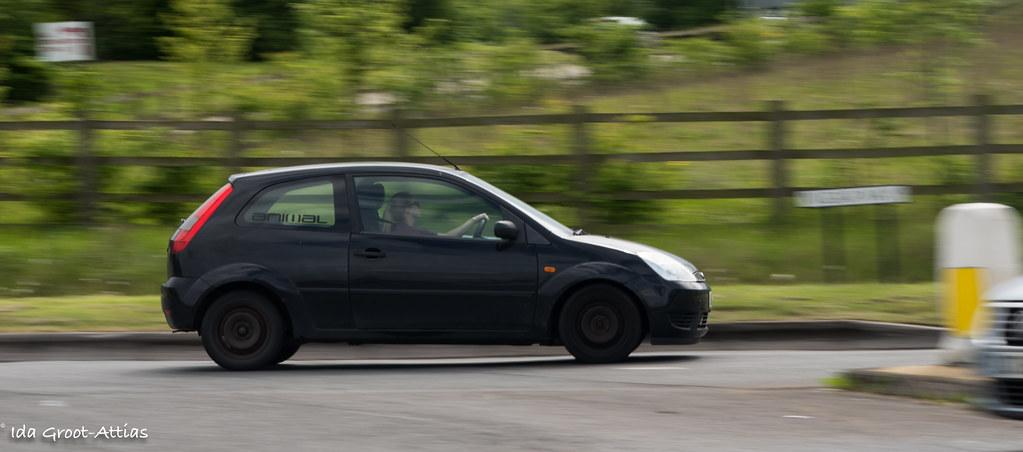car: (160, 160, 713, 371)
